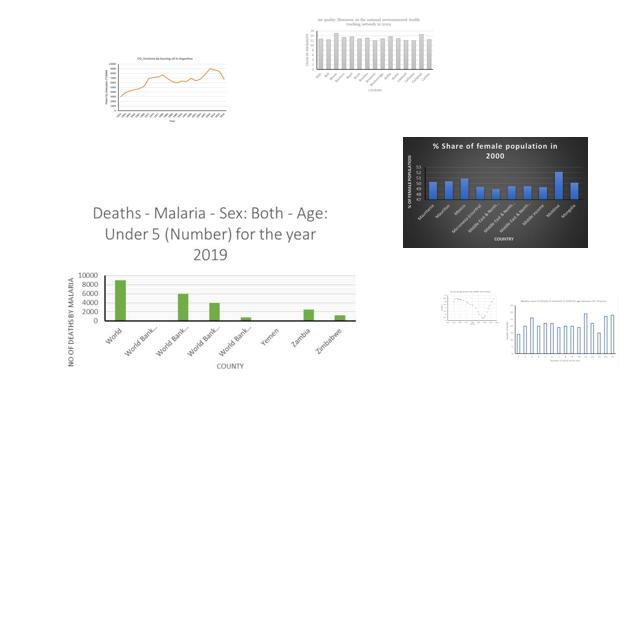Graph: (58, 199, 363, 378), (403, 137, 588, 248), (302, 16, 436, 94), (103, 56, 228, 124), (503, 297, 619, 365), (441, 290, 499, 325)
